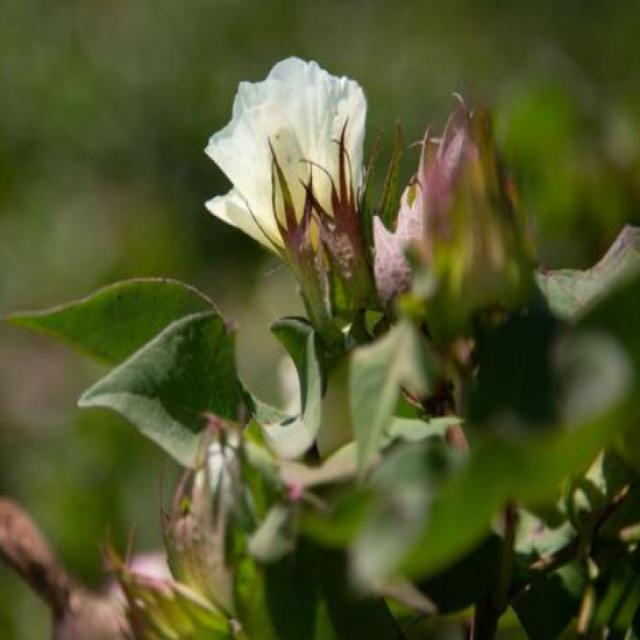Cotton Blossom: (204, 53, 383, 265)
